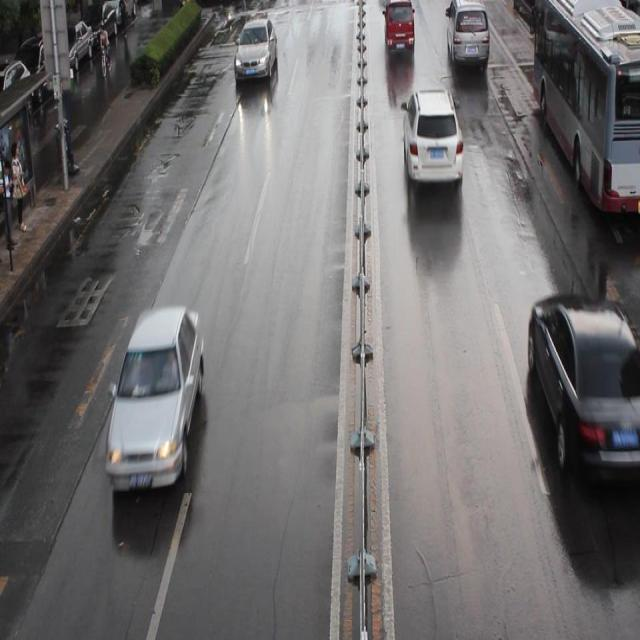car: (525, 293, 640, 493), (106, 305, 206, 491), (401, 90, 462, 186), (233, 16, 277, 80), (383, 1, 414, 52)
truck: (445, 1, 488, 65)
van: (531, 1, 640, 215)
